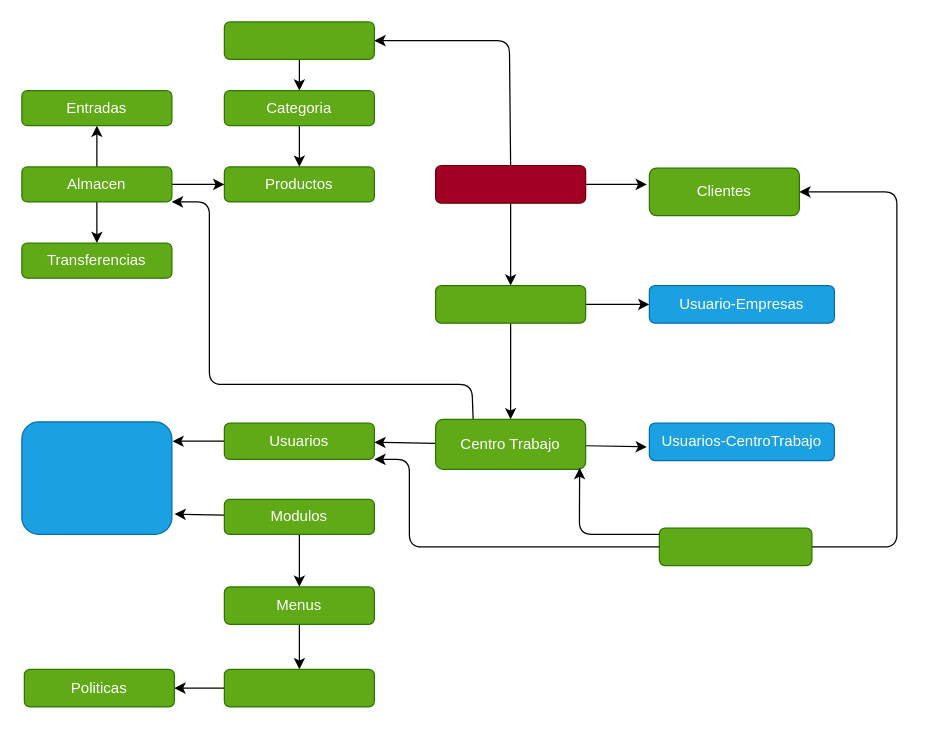
The diagram is 929 pixels wide and 729 high, and some of its shapes have lost their labels. Here are the shapes that lost their labels. From the top down, the box of each, then its label:
(223, 21, 374, 59): Departamento
(434, 164, 586, 203): Corporativo
(434, 284, 586, 323): Empresa
(21, 421, 172, 534): Usuarios-Modulos
(658, 527, 812, 566): Facturacion
(223, 668, 374, 707): Sub Menus
